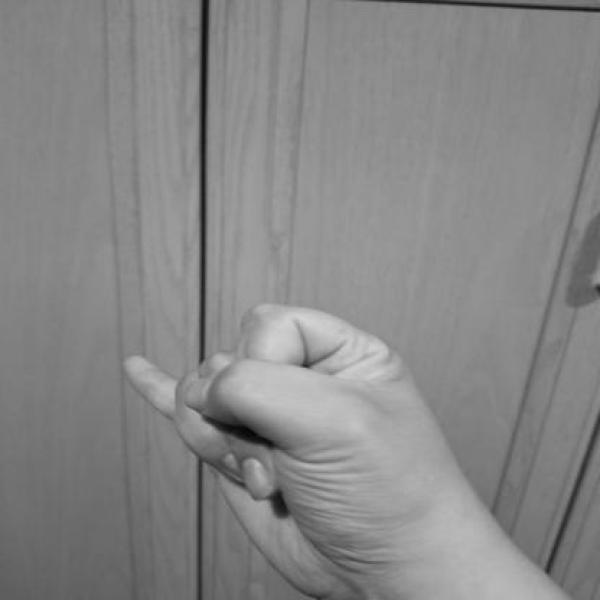J: (115, 296, 488, 598)
